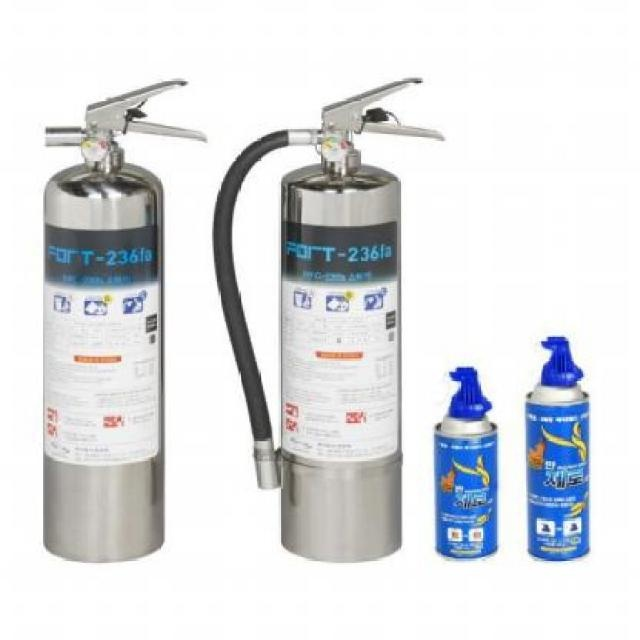fire extinguisher: (212, 77, 445, 565), (42, 77, 207, 565)
